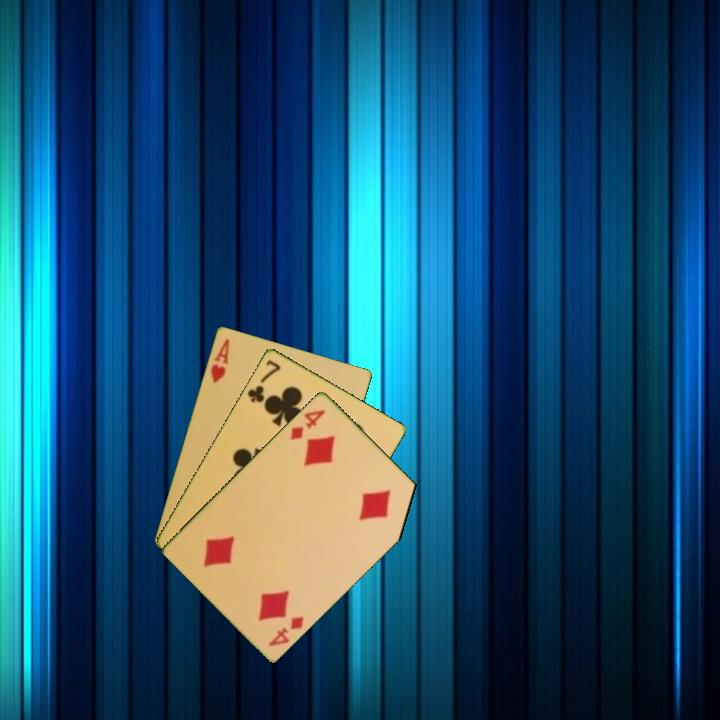4d: (287, 405, 328, 443), (265, 612, 307, 649)
7c: (243, 356, 283, 406)
Ah: (207, 335, 232, 386)
